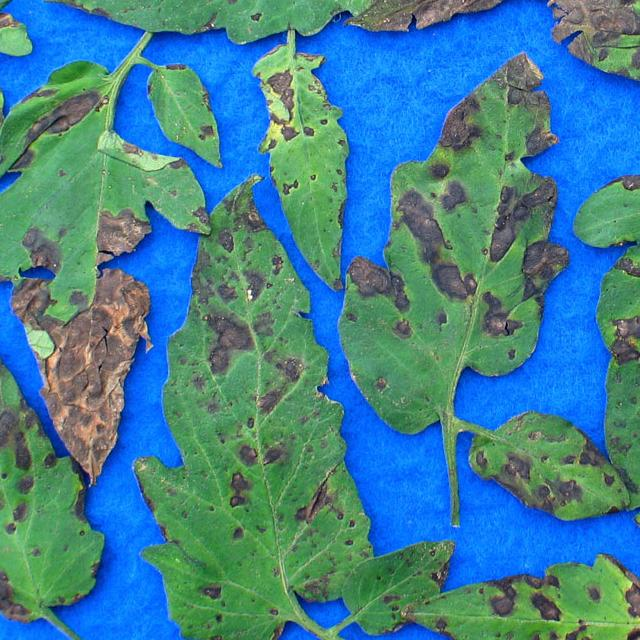Tomato Early blight leaf: (145, 144, 390, 640), (345, 58, 565, 440), (0, 321, 105, 640), (245, 35, 351, 292), (575, 184, 640, 552), (400, 560, 640, 640), (127, 47, 233, 182), (60, 0, 411, 38), (535, 0, 640, 117), (341, 0, 640, 35), (0, 0, 3, 305)
